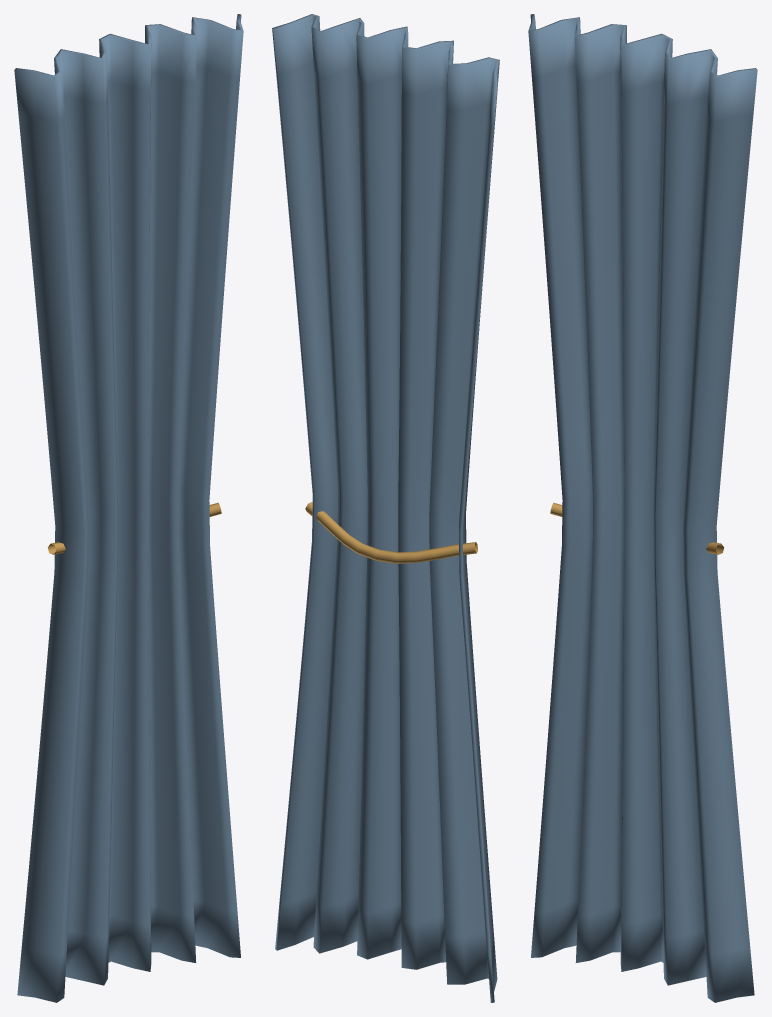
File: curtain.glb
The picture shows the model from 3 angles, left to right: view 1: azimuth 30°, elevation 25°; view 2: azimuth 150°, elevation 25°; view 3: azimuth 330°, elevation 25°; orthographic projection.
Parts seen in each view (by area): view 1: House_curtain; view 2: House_curtain; view 3: House_curtain.
Part boxes in pixels (x1,y1,x2,y2): House_curtain: (14, 14, 243, 1002); House_curtain: (272, 14, 499, 1002); House_curtain: (528, 14, 757, 1002).
Bounding box in the file's own units: 0.4054 × 1.6 × 0.099.
